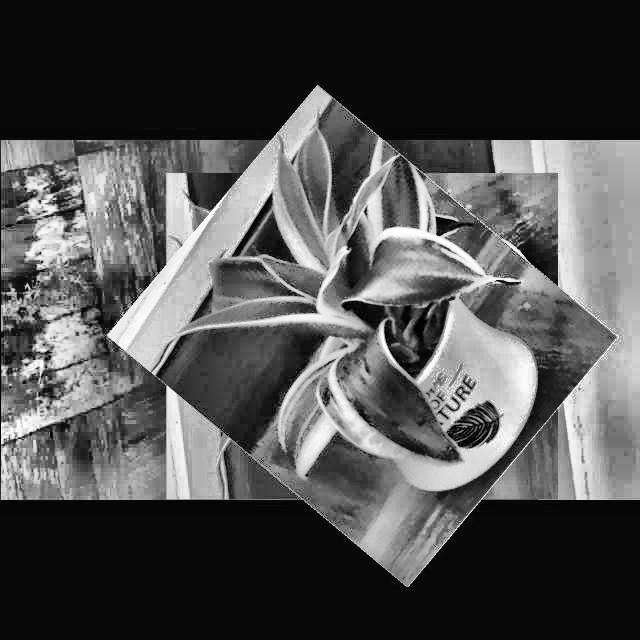plants: (137, 128, 588, 544)
